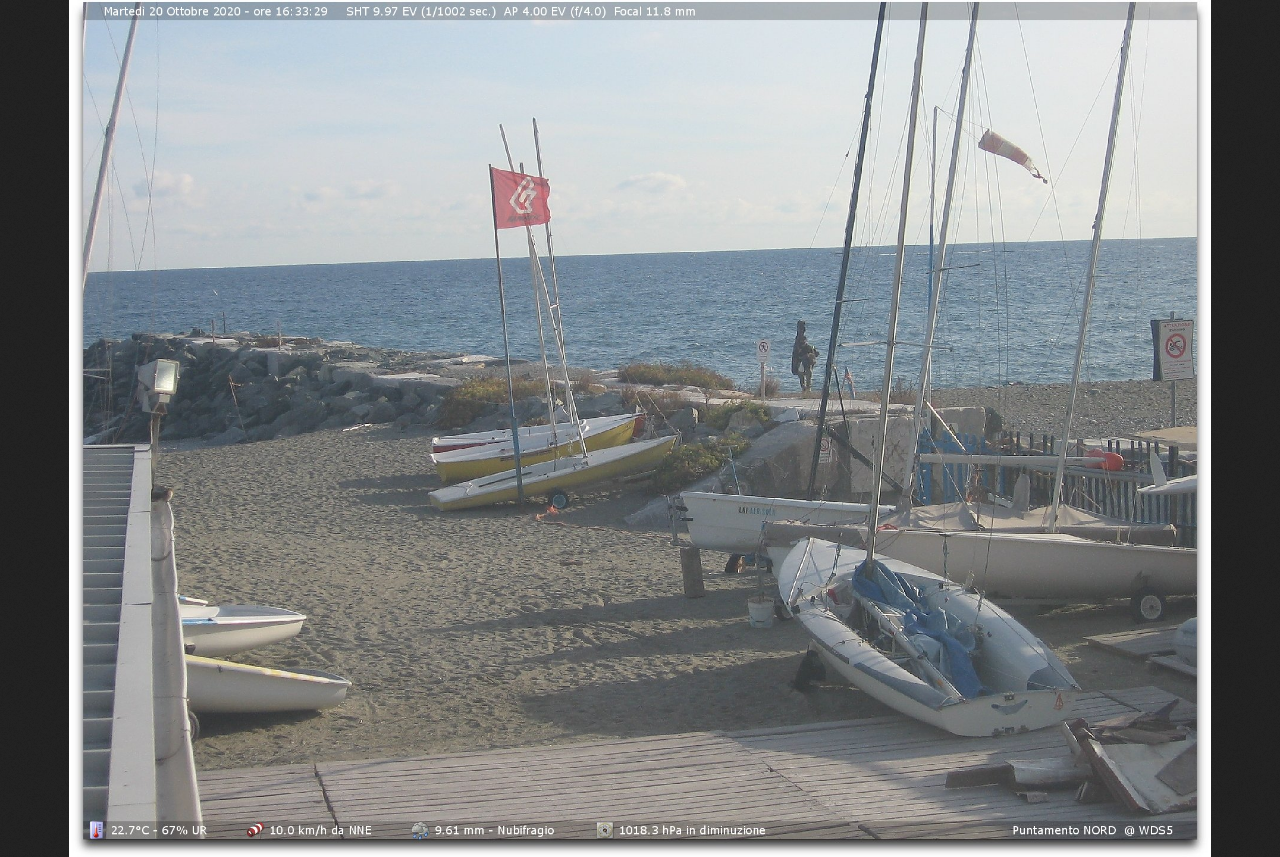yes: (487, 164, 551, 229)
